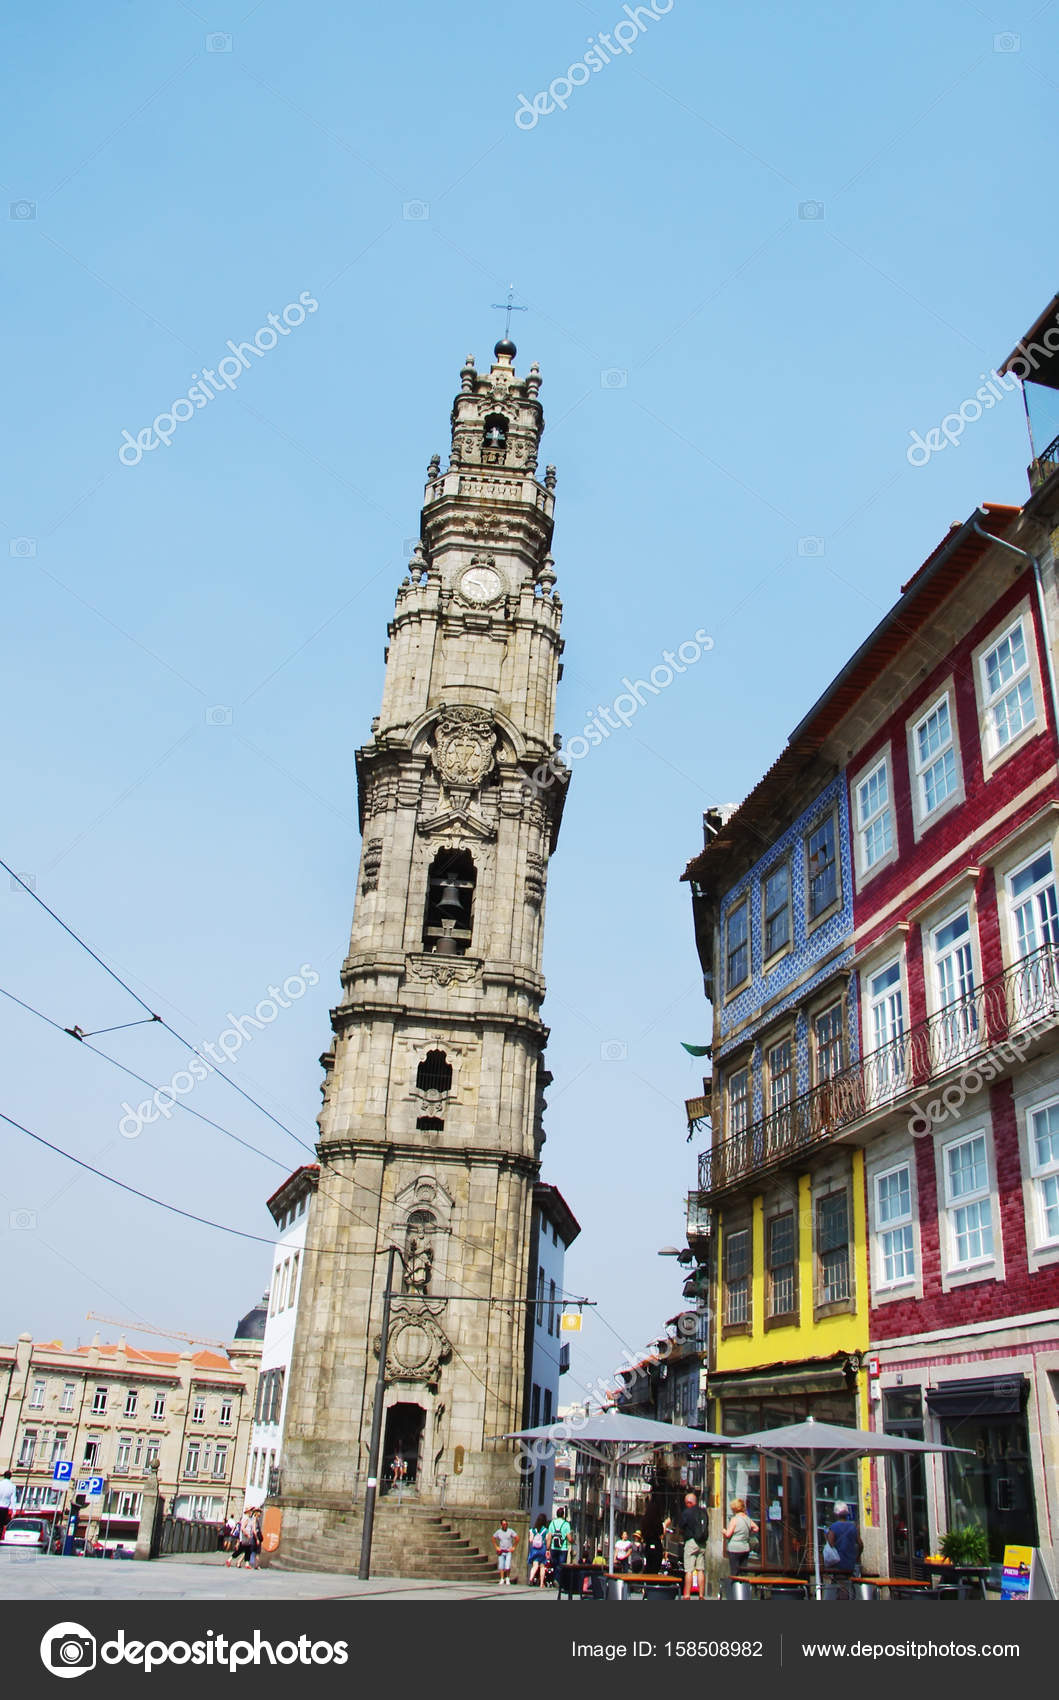clerigos: (265, 289, 572, 1516)
